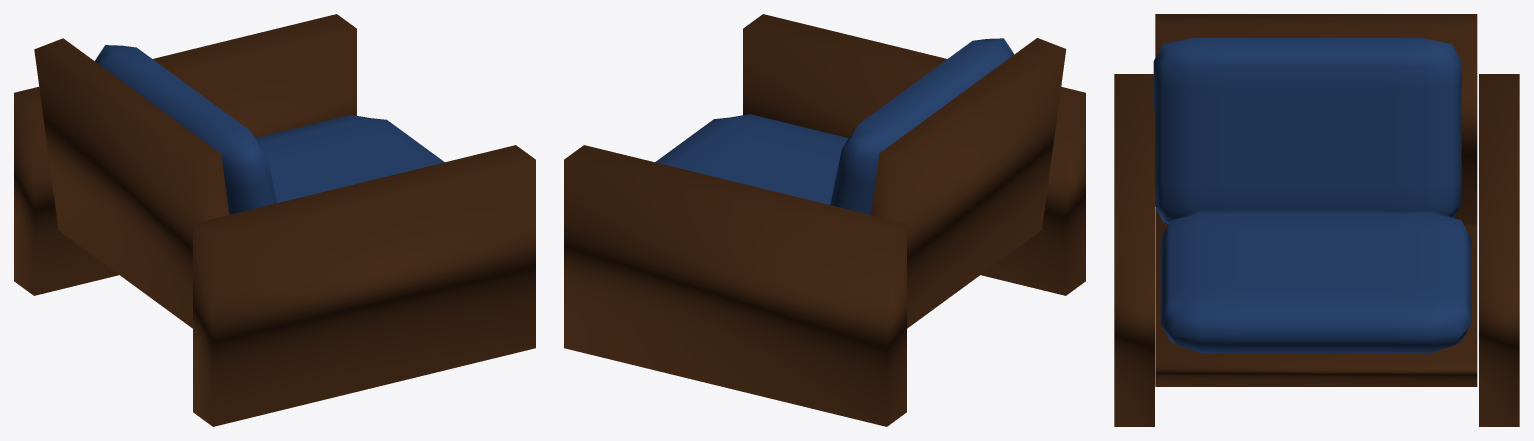
The model's file is CPI441_Fur_Couch_1_Single-V2_Blue.fbx.
3 renders of one model, left to right at view 1: azimuth 30°, elevation 25°; view 2: azimuth 150°, elevation 25°; view 3: azimuth 270°, elevation 25°, orthographic.
Parts seen in each view (by area): view 1: Cube.004; view 2: Cube.004; view 3: Cube.004.
Part boxes in pixels (x1,y1,x2,y2): Cube.004: (14,14,535,426); Cube.004: (564,14,1085,426); Cube.004: (1114,14,1519,426).
Bounding box in the file's own units: 375 × 267 × 382.
